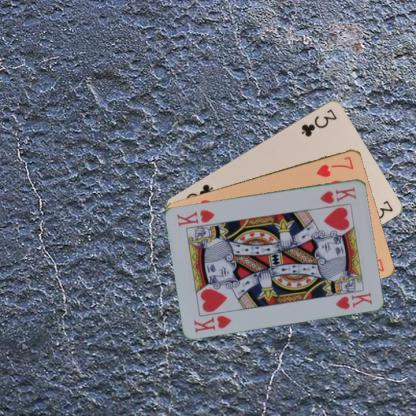3c: (298, 106, 338, 138)
7h: (314, 153, 354, 179)
Kh: (191, 312, 233, 333), (317, 184, 358, 204)
